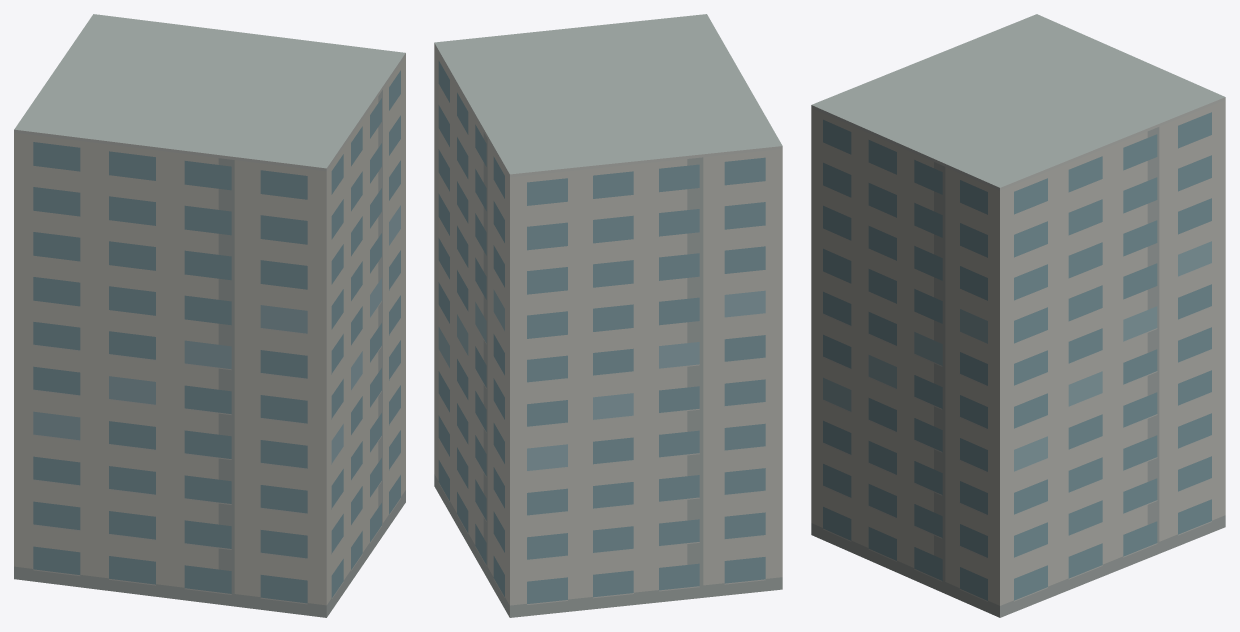
File: survey-upis-32845992.glb
The picture shows the model from 3 angles, left to right: view 1: azimuth 30°, elevation 25°; view 2: azimuth 150°, elevation 25°; view 3: azimuth 270°, elevation 25°; orthographic projection. The views are drawn at different scales.
Visible parts, largest first — view 1: survey-upis-32845992.tmp; view 2: survey-upis-32845992.tmp; view 3: survey-upis-32845992.tmp.
Part boxes in pixels (left/top/right/bottom): survey-upis-32845992.tmp: left=14, top=14, right=405, bottom=617; survey-upis-32845992.tmp: left=434, top=14, right=782, bottom=617; survey-upis-32845992.tmp: left=811, top=14, right=1225, bottom=617.
Bounding box in the file's own units: 30.75 × 35.45 × 30.96.
